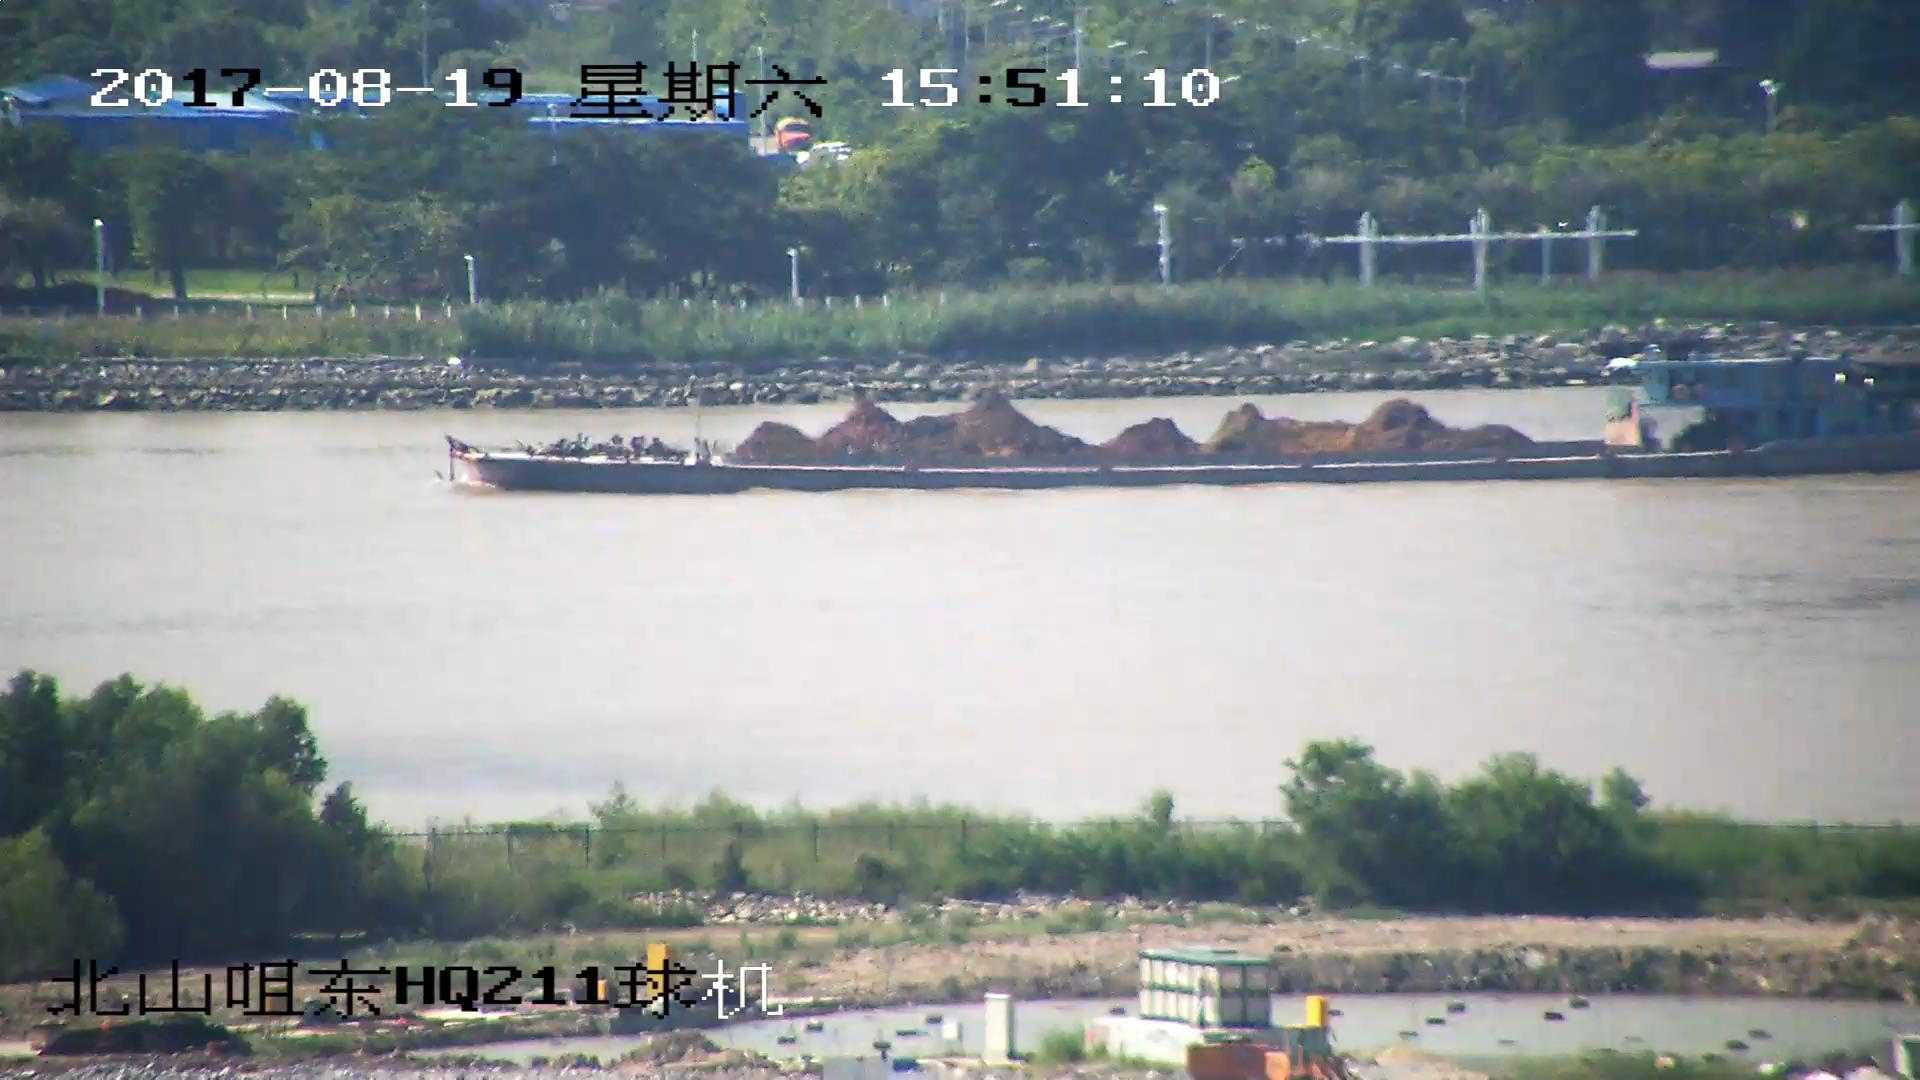ore carrier: (444, 358, 1920, 496)
